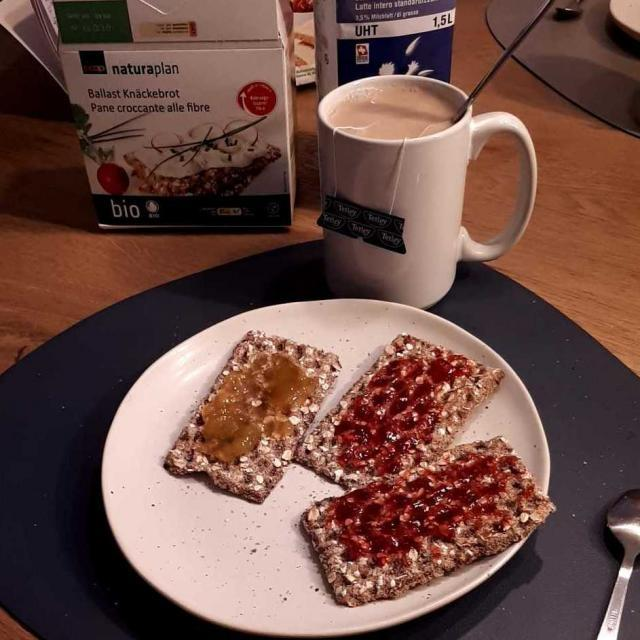jam: (310, 446, 548, 604), (332, 336, 501, 475), (203, 355, 318, 469)
rusk-wholemeal: (313, 447, 546, 595), (169, 332, 338, 498), (334, 335, 492, 471)
tea: (330, 86, 450, 137)
